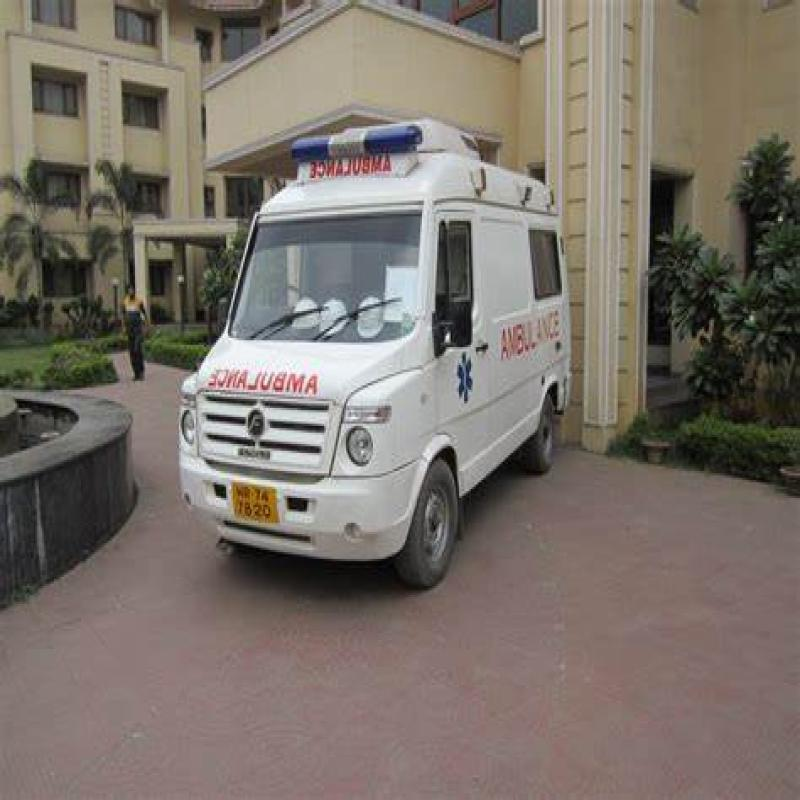AmbulanceSiren: (284, 115, 415, 170)
